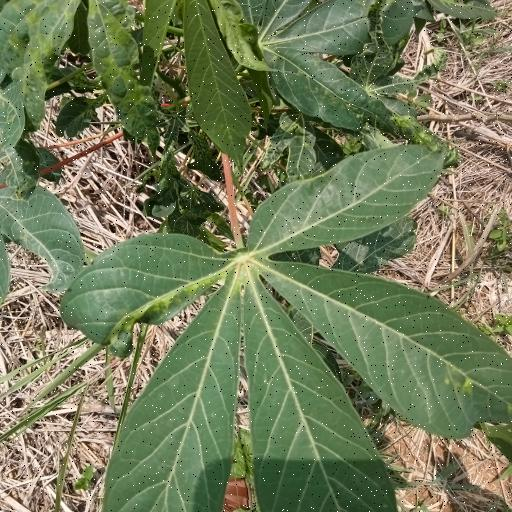Cassava_Mosaic: (71, 140, 512, 512)
